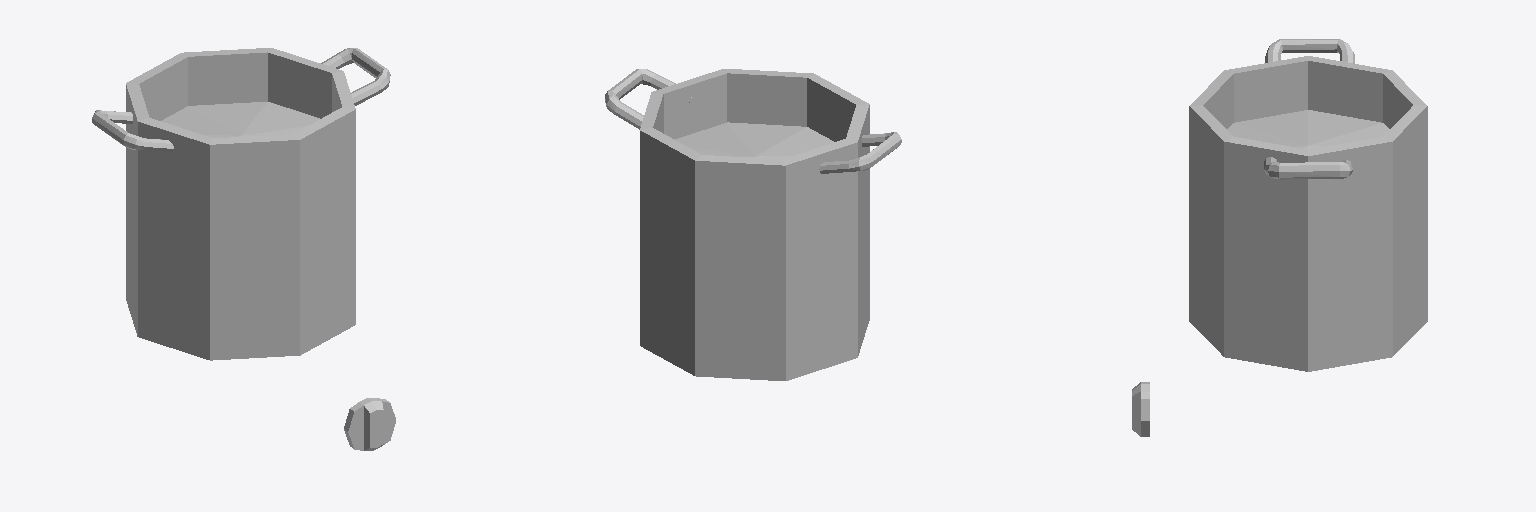
Rendered from kitchen props.obj.
The picture shows the model from 3 angles: view 1: azimuth 30°, elevation 25°; view 2: azimuth 150°, elevation 25°; view 3: azimuth 270°, elevation 25°; orthographic projection.
Parts seen in each view (by area): view 1: polySurface1613, polySurface1606 pCylinder120; view 2: polySurface1613; view 3: polySurface1613, polySurface1606 pCylinder120.
Part boxes in pixels (x1,y1,x2,y2): polySurface1613: (92,48,390,360); polySurface1606 pCylinder120: (344,398,395,450); polySurface1613: (605,69,901,380); polySurface1613: (1189,39,1427,371); polySurface1606 pCylinder120: (1132,382,1149,436).
Size of the model in its own units: 1.7 by 1.89 by 1.62.